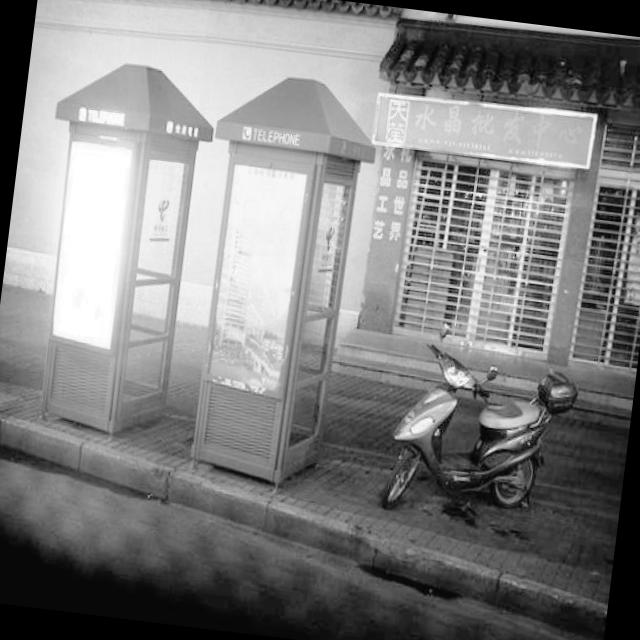Motorcycle: (373, 329, 585, 542)
